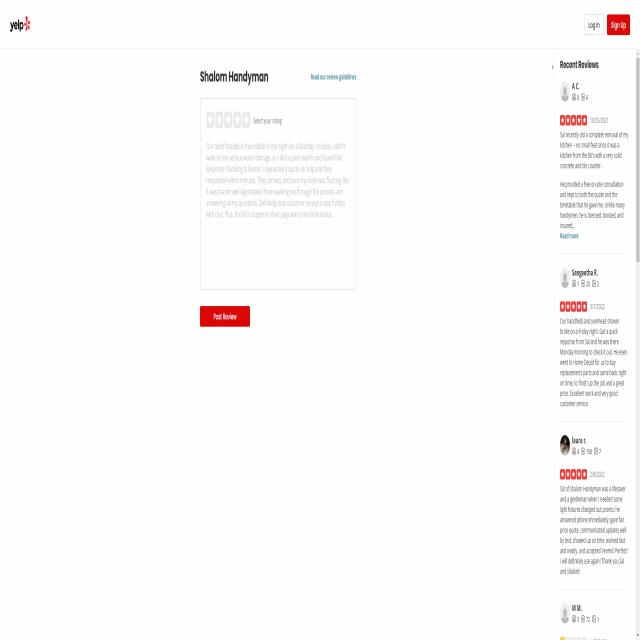menu-bar: (581, 8, 634, 41)
